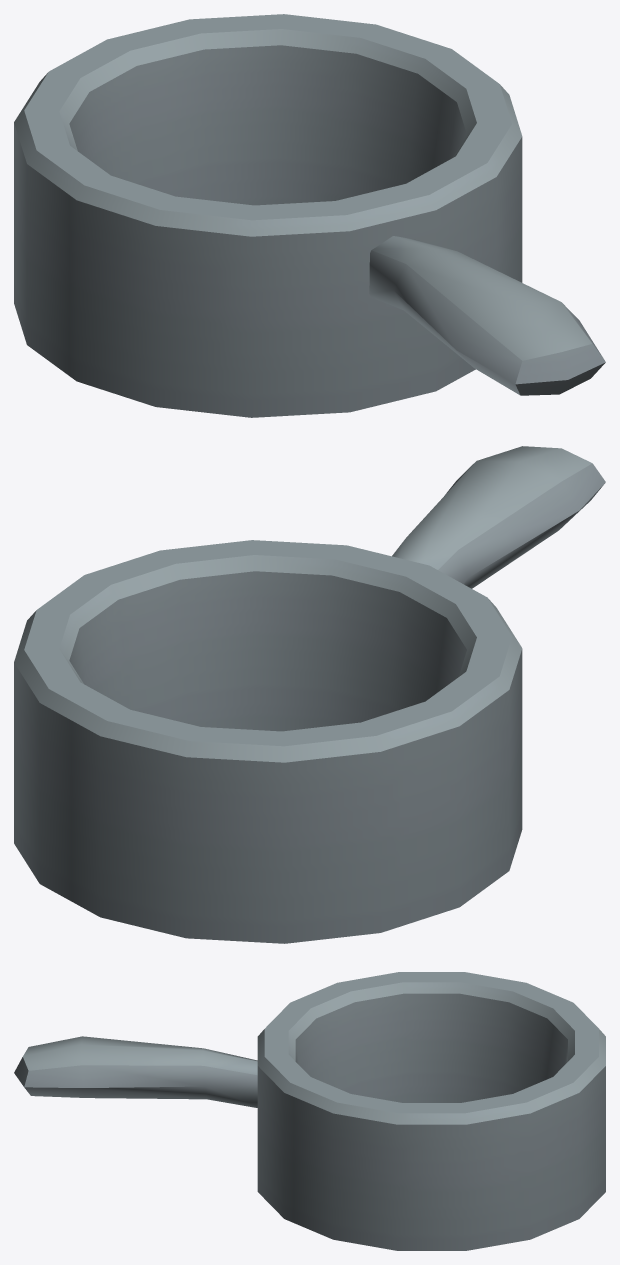
Rendered from kaykit-restaurant-bits-pan-006.glb.
3 renders of one model, top to bottom at view 1: azimuth 30°, elevation 25°; view 2: azimuth 150°, elevation 25°; view 3: azimuth 270°, elevation 25°, orthographic. The views are drawn at different scales.
Visible parts, largest first — view 1: pan.006; view 2: pan.006; view 3: pan.006.
Boxes of the visible parts, left/top/right/bottom form: pan.006: left=14, top=14, right=605, bottom=417; pan.006: left=14, top=446, right=605, bottom=943; pan.006: left=14, top=972, right=605, bottom=1250.
Size of the model in its own units: 0.75 by 0.3501 by 1.28.
1 material, 1 textured.
